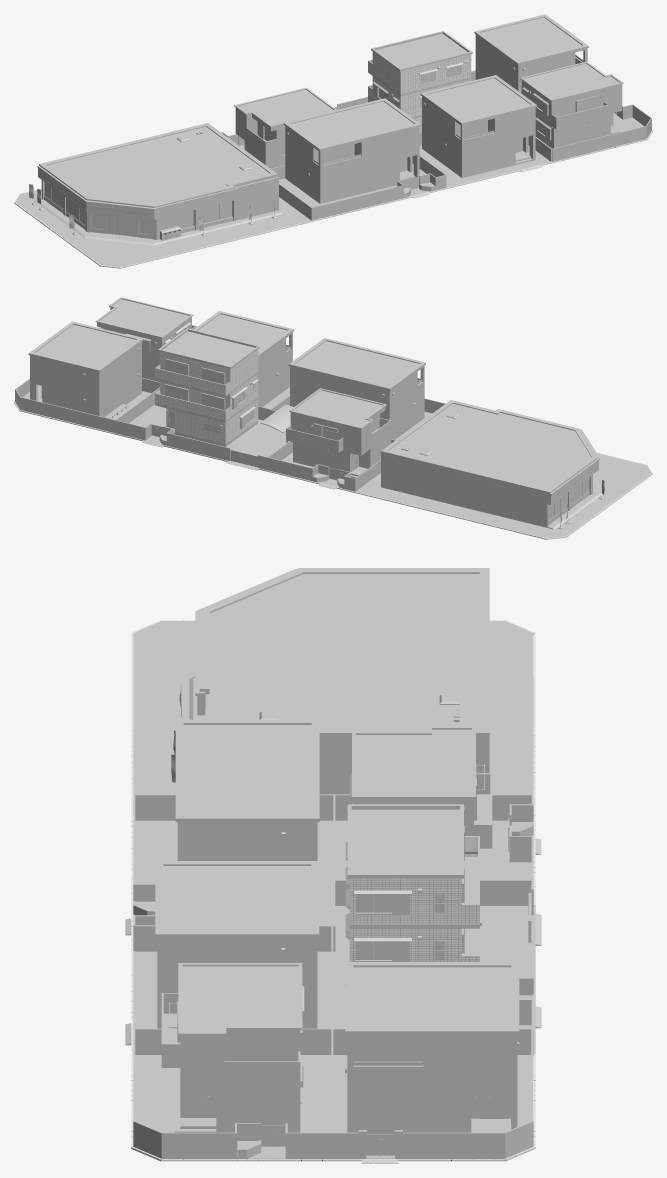
The model's file is Street_A.fbx.
3 views of the same model, one above another, from view 1: azimuth 30°, elevation 25°; view 2: azimuth 150°, elevation 25°; view 3: azimuth 270°, elevation 25° (orthographic). The views are drawn at different scales.
Parts seen in each view (by area): view 1: Street_A; view 2: Street_A; view 3: Street_A.
Boxes of the visible parts, x1,y1,x2,y2 form: Street_A: (14,14,652,268); Street_A: (14,297,652,539); Street_A: (125,568,541,1163).
Size of the model in its own units: 6410 by 860 by 2081.
